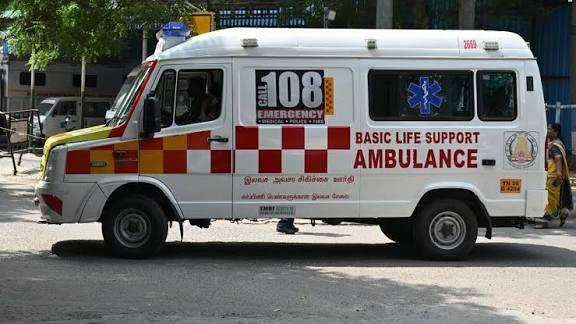ambulance: (38, 24, 547, 263)
